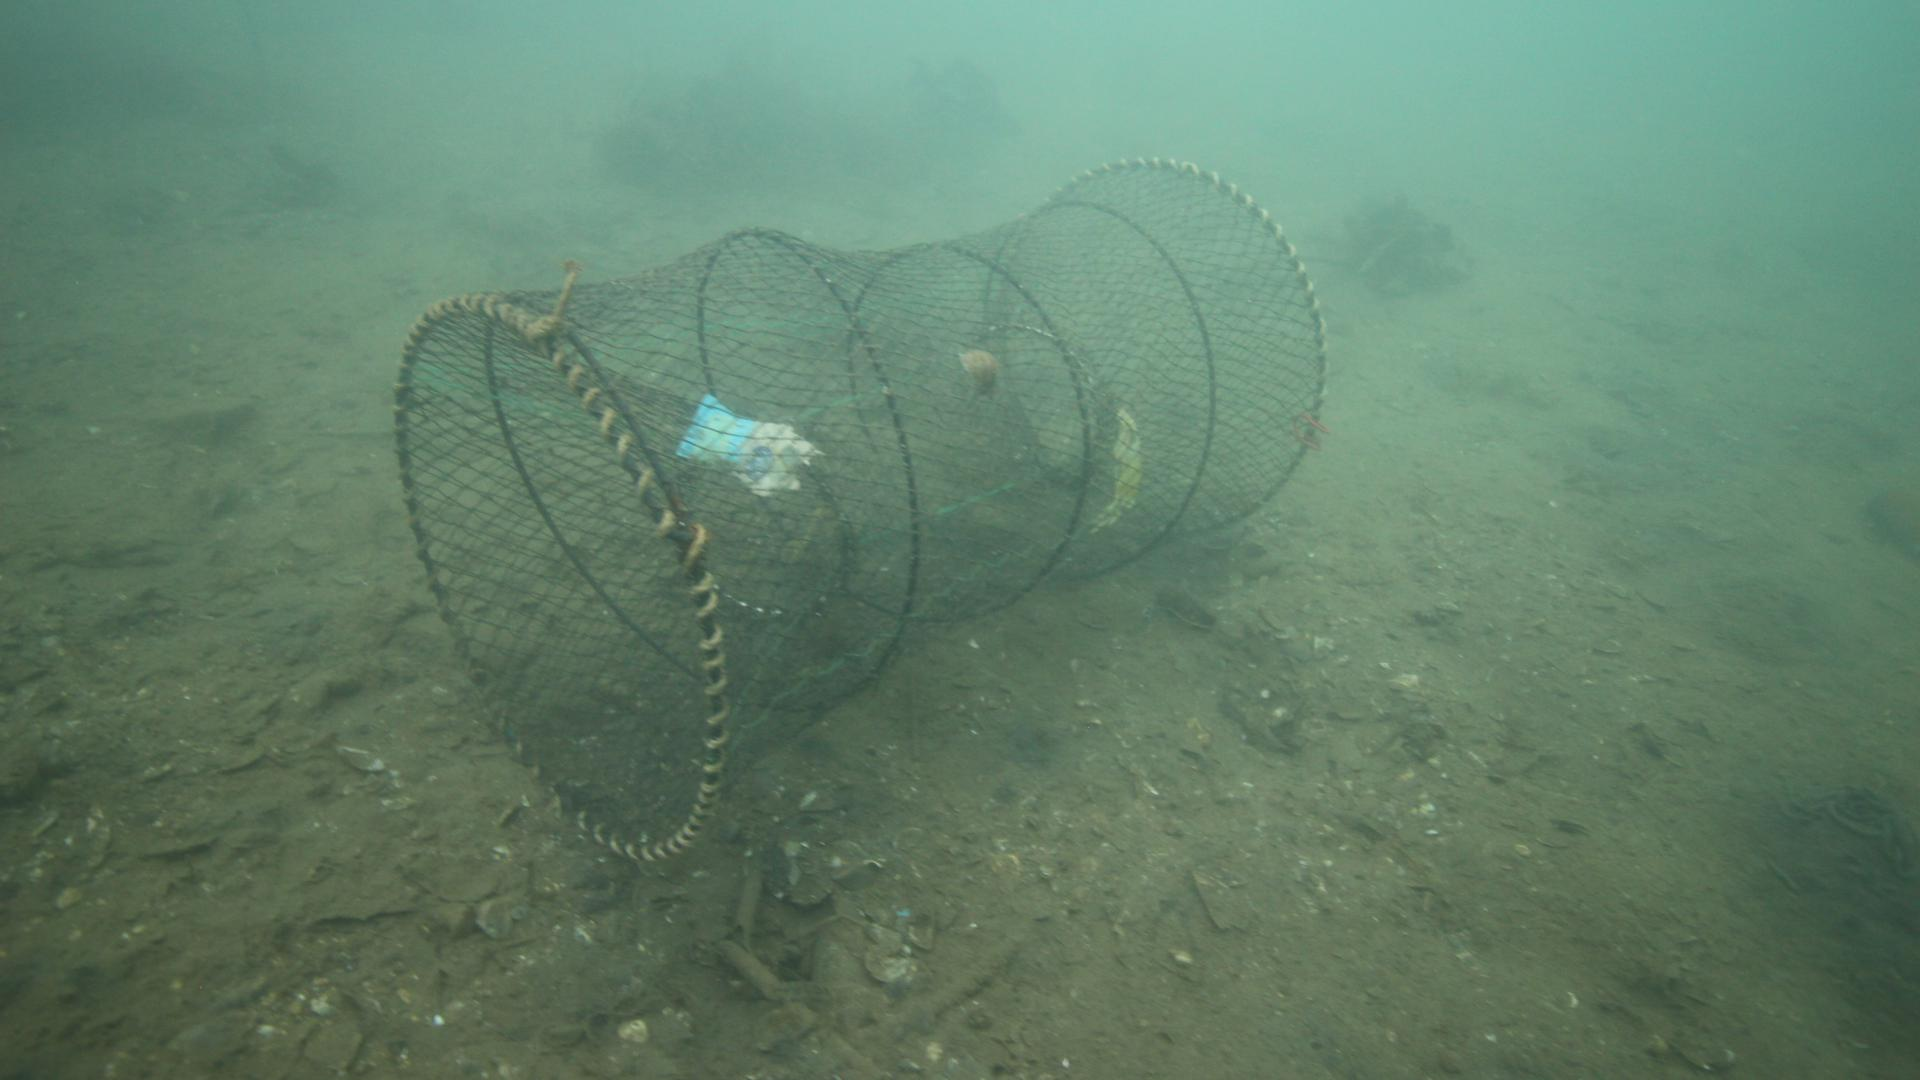spring fish trap: (389, 156, 1324, 856)
